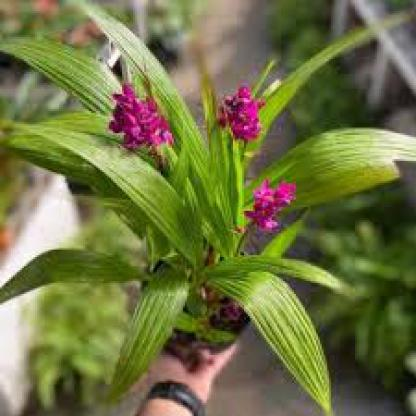ANGGREK: (51, 45, 363, 297)
